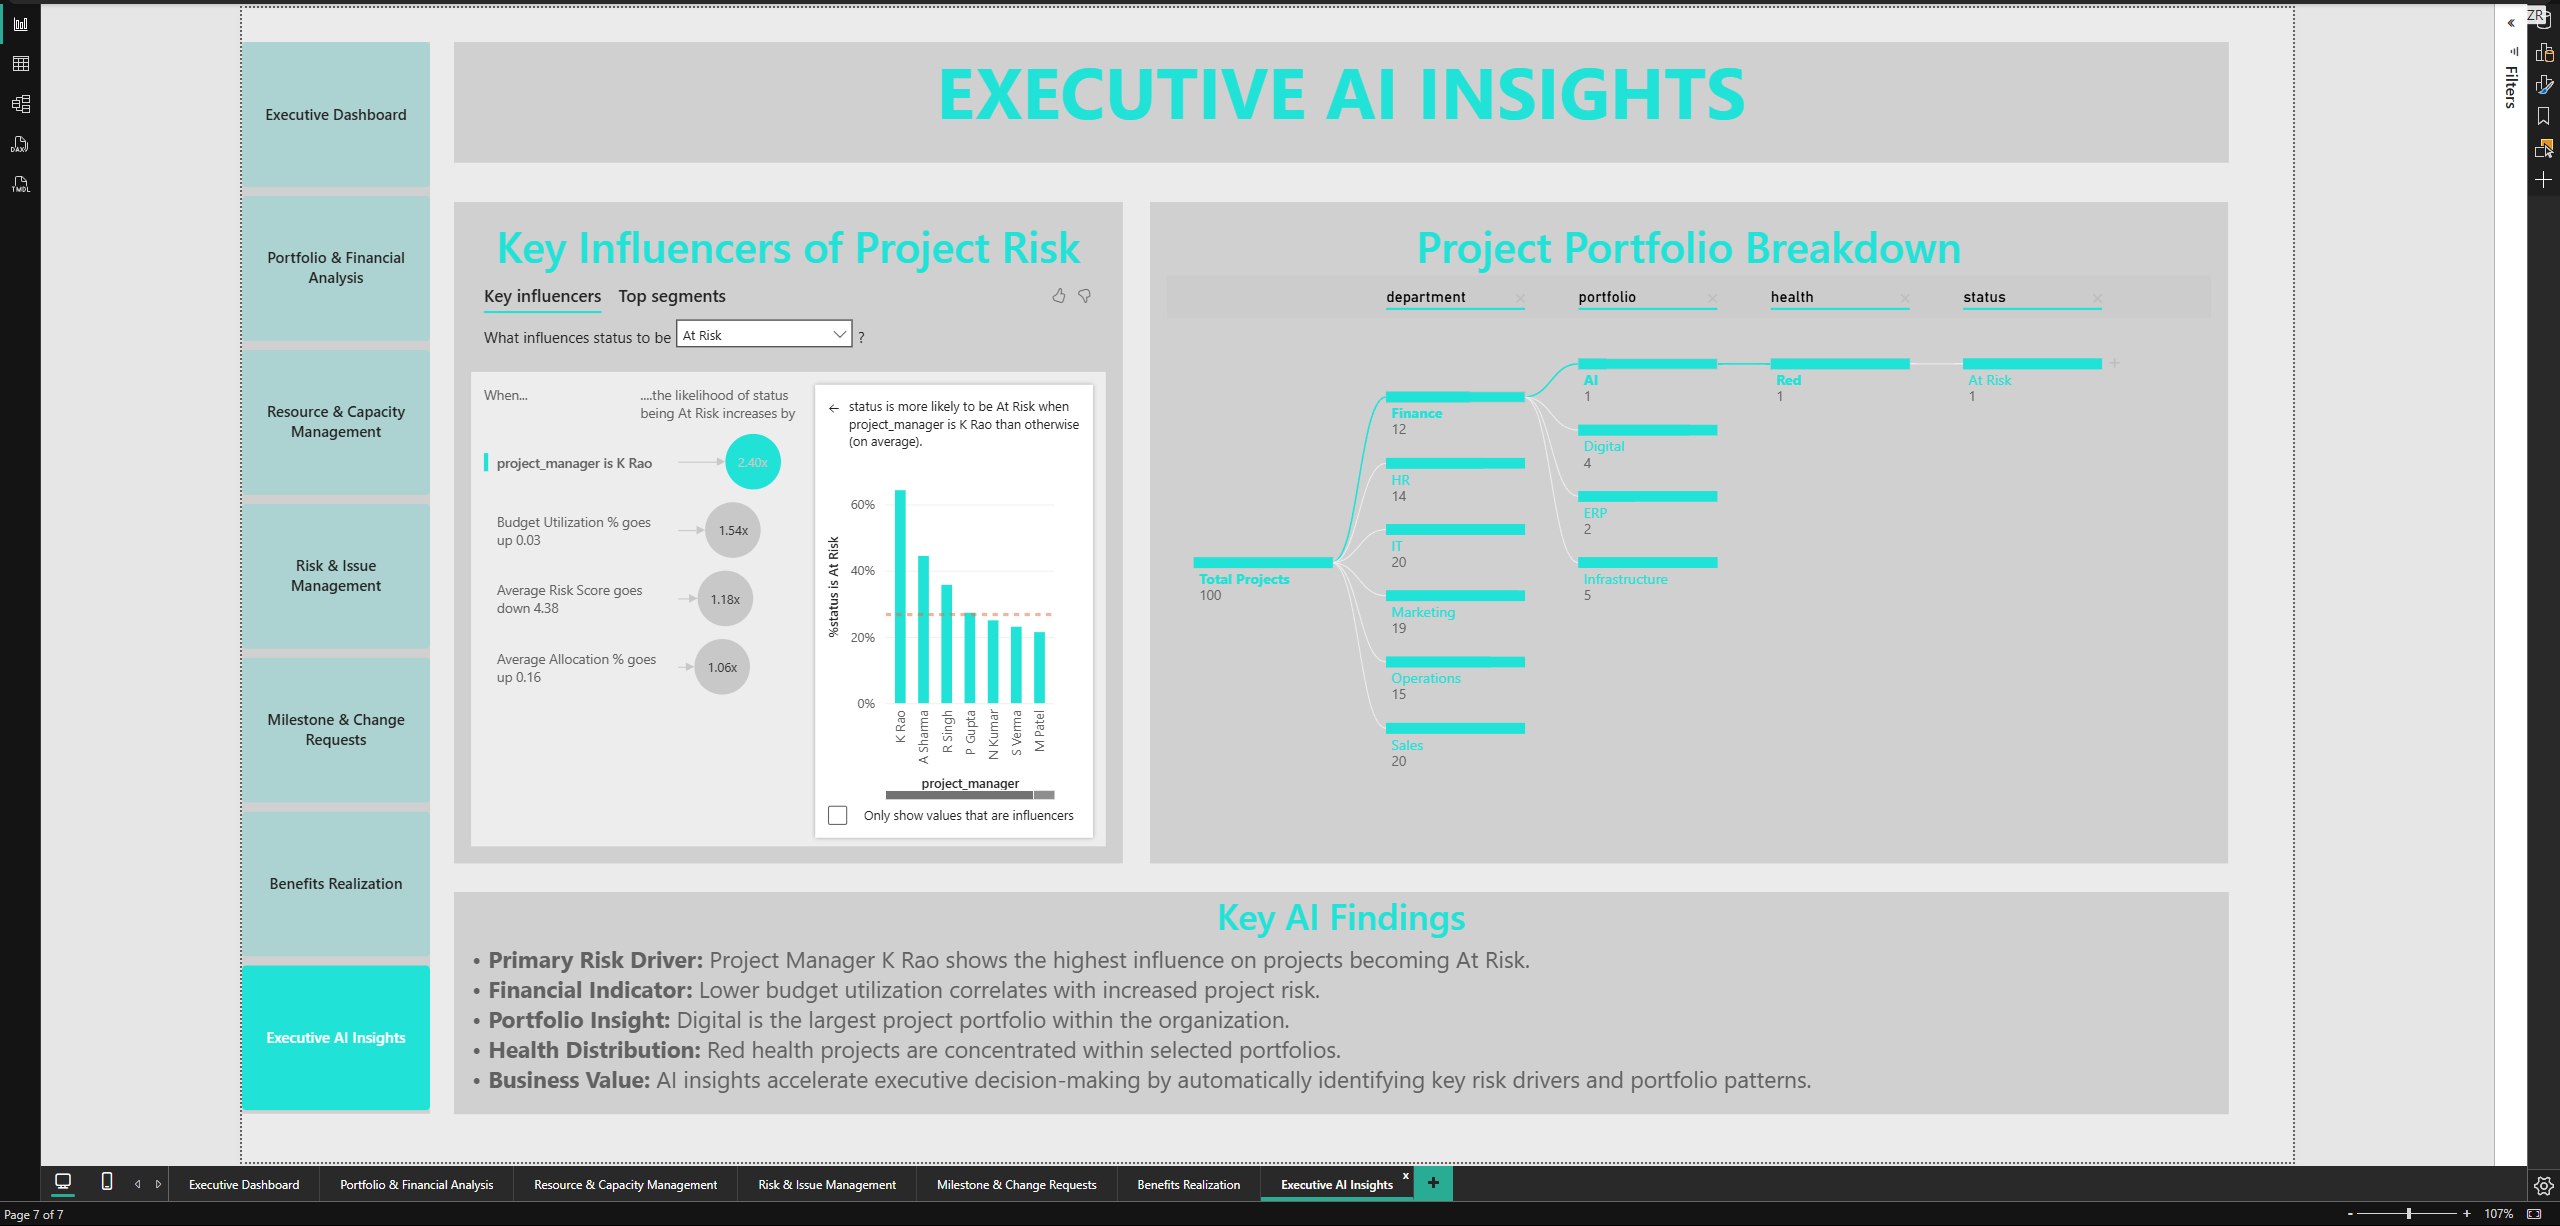

What the dashboard file says about the page in this screenshot:
{"tool":"powerbi","page":{"name":"Executive AI Insights","canvas":[1920,1080],"ordinal":6},"visuals":[{"type":"pageNavigator","box":[0,32,176,1003],"z":0},{"type":"keyDriversVisual","title":"Key Influencers of Project Risk","fields":{"ExplainBy":["pmo projects.department","pmo projects.project_manager","Measure Table.Budget Utilization %","pmo projects.health","Measure Table.Average Risk Score","Sum(pmo projects.duration_days)","Measure Table.Average Allocation %","pmo projects.portfolio"],"Target":["pmo projects.status"]},"box":[198,182,626,619],"z":1000},{"type":"decompositionTreeVisual","title":"Project Portfolio Breakdown","fields":{"Analyze":["Measure Table.Total Projects"],"ExplainBy":["pmo projects.department","pmo projects.portfolio","pmo projects.health","pmo projects.status","pmo projects.priority","pmo projects.project_manager","pmo projects.region"]},"box":[850,182,1009,619],"z":2000},{"type":"textbox","title":"EXECUTIVE AI INSIGHTS","box":[198,32,1661,113],"z":3000},{"type":"textbox","title":"Key AI Findings","box":[198,827,1661,208],"z":4000}]}

Visuals, with their boxes on the page's 1920x1080 design canvas (x1, y1, x2, y2). These are canvas units, not pixel positions in the 2560x1226 screenshot, which may show the page scaled, cropped or inside an application window:
pageNavigator: BBox(0, 32, 176, 1035)
"Key Influencers of Project Risk" keyDriversVisual: BBox(198, 182, 824, 801)
"Project Portfolio Breakdown" decompositionTreeVisual: BBox(850, 182, 1859, 801)
"EXECUTIVE AI INSIGHTS" textbox: BBox(198, 32, 1859, 145)
"Key AI Findings" textbox: BBox(198, 827, 1859, 1035)
